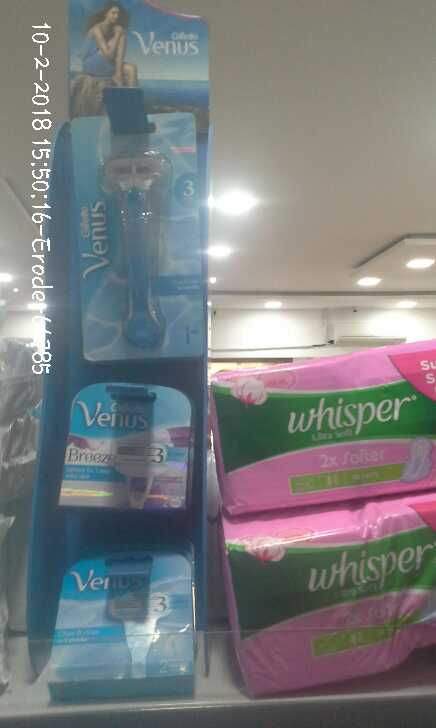beauty: (69, 117, 210, 358), (48, 555, 200, 703), (63, 378, 189, 518)
pharmacy: (210, 511, 436, 698), (213, 339, 436, 516)
